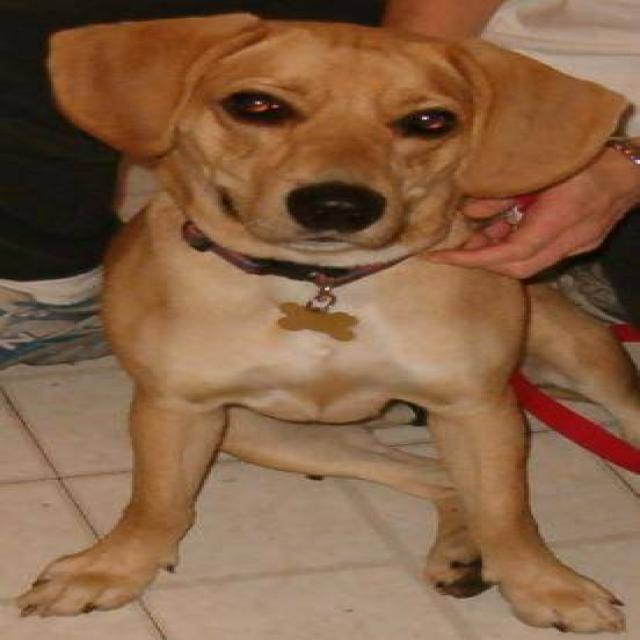dog: (14, 10, 638, 634)
